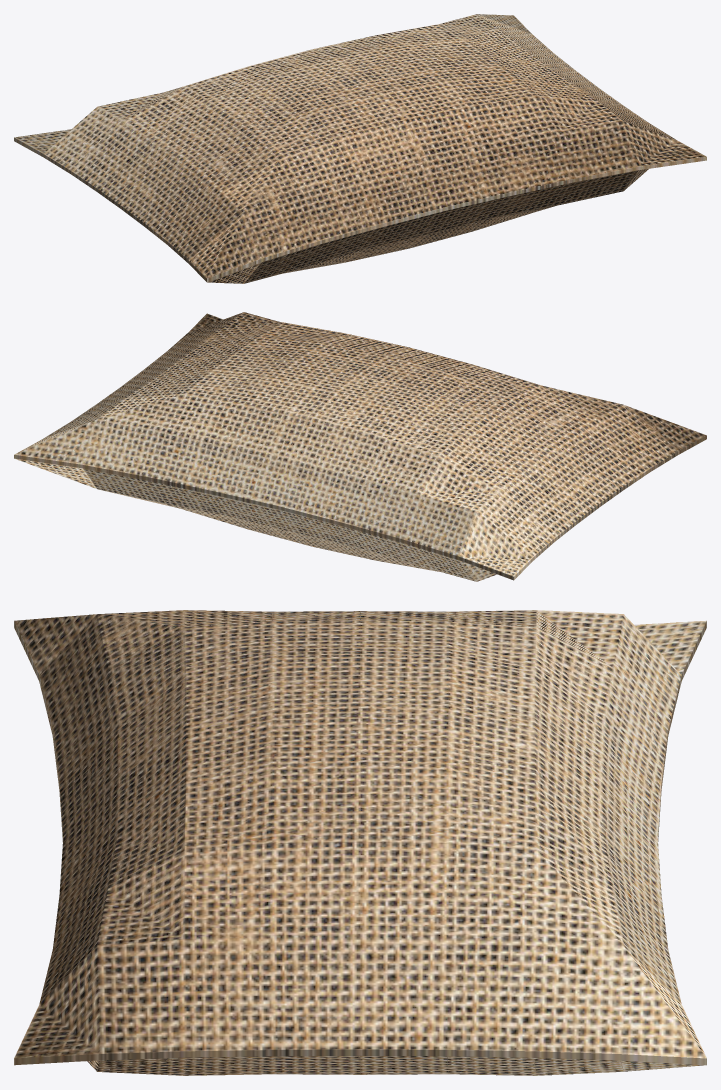
File: SM_RiceBag.fbx
The picture shows the model from 3 angles, top to bottom: view 1: azimuth 30°, elevation 25°; view 2: azimuth 150°, elevation 25°; view 3: azimuth 270°, elevation 25°; orthographic projection. The views are drawn at different scales.
Parts seen in each view (by area): view 1: Plane; view 2: Plane; view 3: Plane.
Part boxes in pixels (x1,y1,x2,y2): Plane: (14,14,706,283); Plane: (14,312,706,581); Plane: (14,610,706,1075).
Size of the model in its own units: 295 by 84.35 by 197.
Materials: 1 (1 with a texture image).
